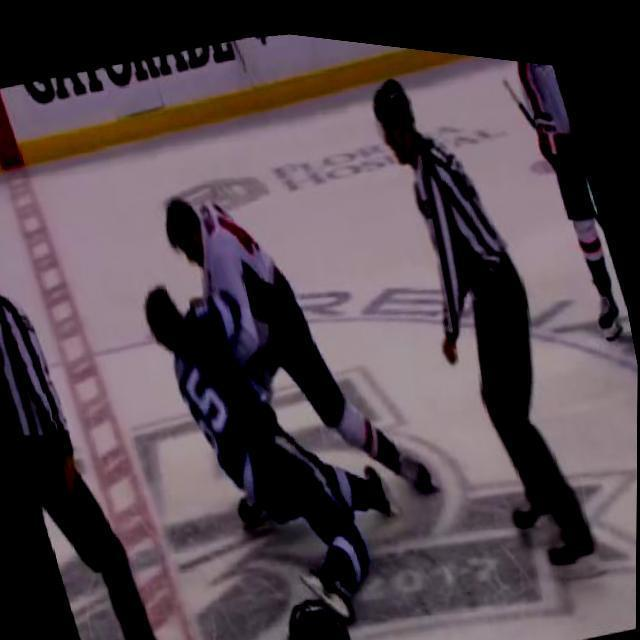fight: (101, 128, 452, 612)
